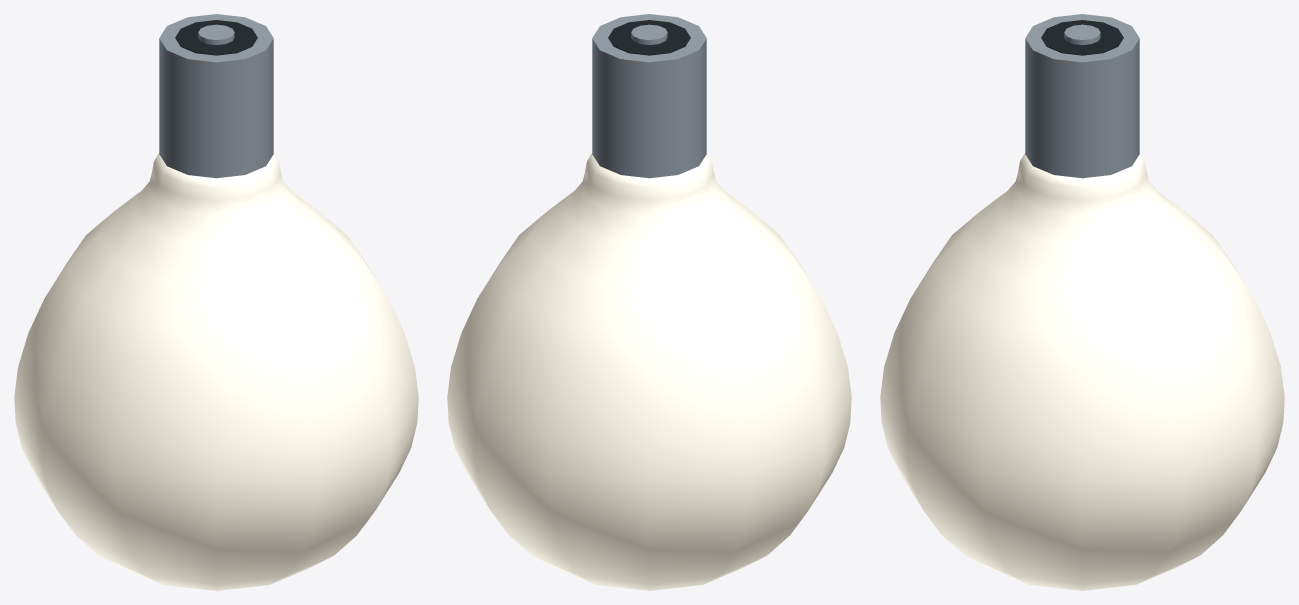
Rendered from source.glb.
The picture shows the model from 3 angles, left to right: view 1: azimuth 30°, elevation 25°; view 2: azimuth 150°, elevation 25°; view 3: azimuth 270°, elevation 25°; orthographic projection.
Visible parts, largest first — view 1: Emitters, 机加工金属, 密封及绝缘件; view 2: Emitters, 机加工金属, 密封及绝缘件; view 3: Emitters, 机加工金属, 密封及绝缘件.
Boxes of the visible parts, x1,y1,x2,y2 form: Emitters: (14, 153, 418, 590); 机加工金属: (159, 14, 273, 178); 密封及绝缘件: (175, 20, 257, 55); Emitters: (447, 153, 851, 590); 机加工金属: (592, 14, 706, 178); 密封及绝缘件: (608, 20, 690, 55); Emitters: (880, 153, 1284, 590); 机加工金属: (1025, 14, 1139, 178); 密封及绝缘件: (1041, 20, 1123, 55).
Bounding box in the file's own units: 0.0953 × 0.1385 × 0.0953.
